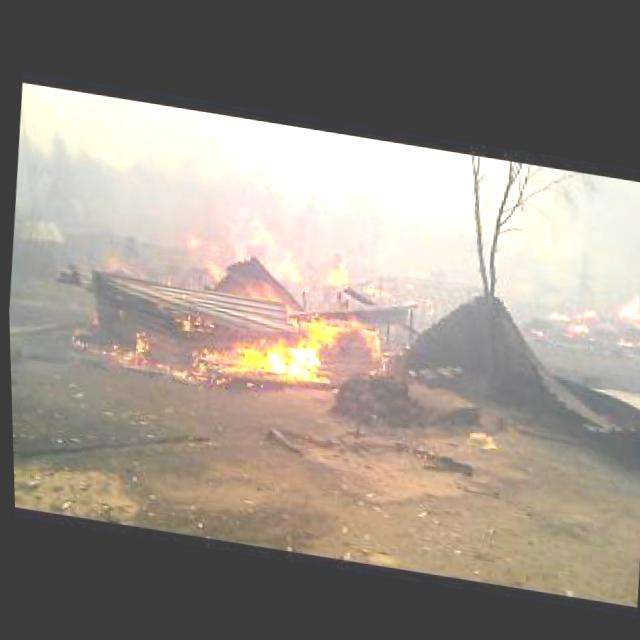Fire: (101, 179, 395, 397)
